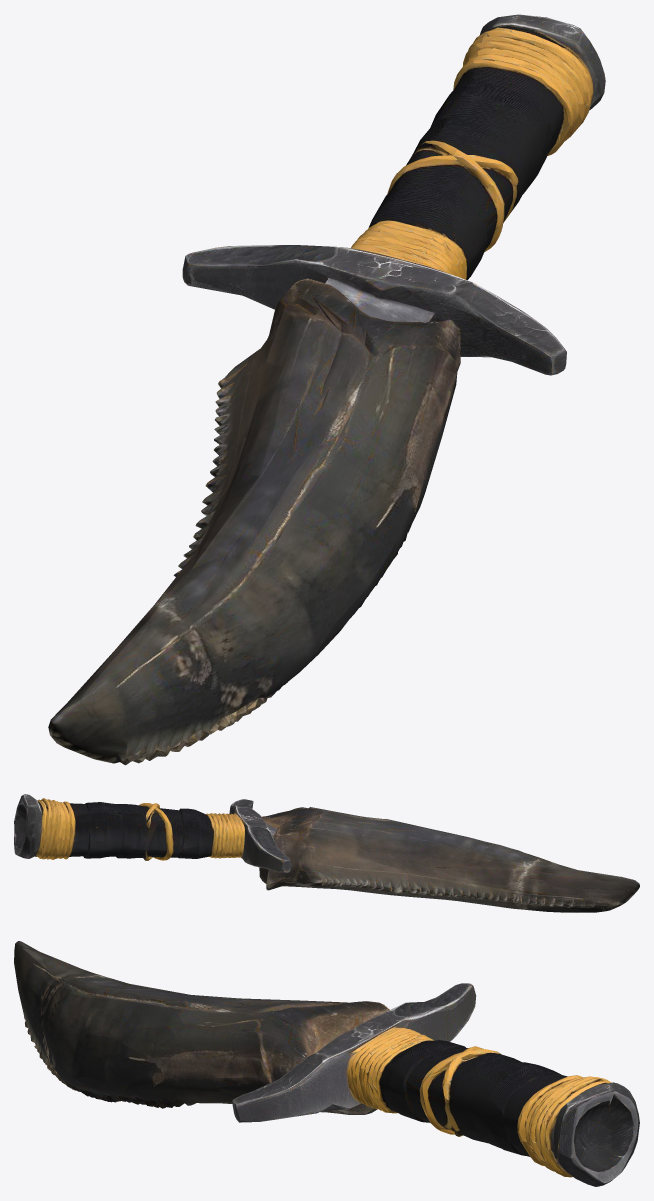
File: impdagger3d.glb
The picture shows the model from 3 angles, top to bottom: view 1: azimuth 30°, elevation 25°; view 2: azimuth 150°, elevation 25°; view 3: azimuth 270°, elevation 25°; orthographic projection. The views are drawn at different scales.
Bounding box in the file's own units: 1.9 × 0.6102 × 1.45.
1 material, 1 textured.
